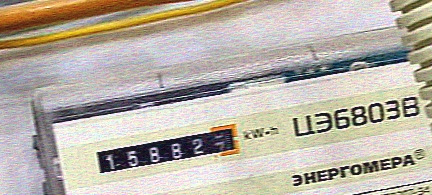1: (104, 153, 116, 172)
2: (190, 137, 204, 155)
5: (124, 149, 139, 168)
7: (213, 139, 226, 154)
8: (147, 145, 160, 163), (170, 142, 182, 159)
screen: (88, 120, 247, 180)
